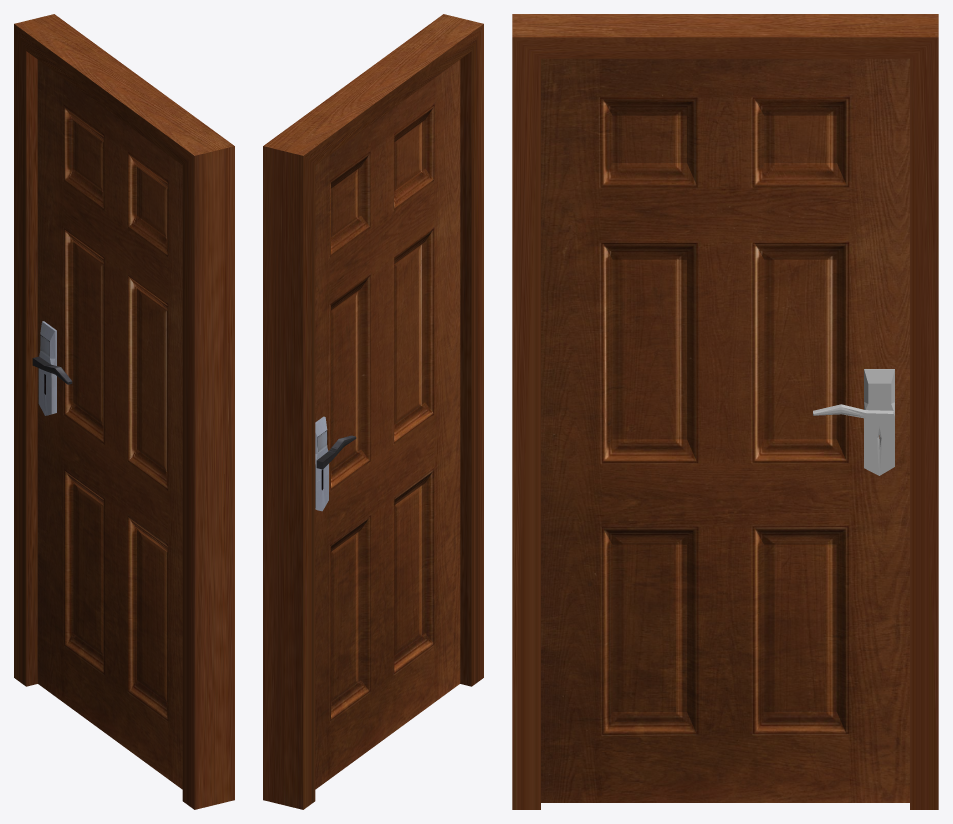
Rendered from door a.dae.
3 renders of one model, left to right at view 1: azimuth 30°, elevation 25°; view 2: azimuth 150°, elevation 25°; view 3: azimuth 270°, elevation 25°, orthographic. The views are drawn at different scales.
Parts seen in each view (by area): view 1: Cube.001, Cube, Cube.002; view 2: Cube.001, Cube, Cube.002; view 3: Cube.001, Cube, Cube.003.
Boxes of the visible parts, <box> form: Cube.001: <box>37,59,182,789</box>; Cube: <box>14,14,234,809</box>; Cube.002: <box>32,321,72,415</box>; Cube.001: <box>315,59,460,789</box>; Cube: <box>263,14,483,809</box>; Cube.002: <box>315,416,356,511</box>; Cube.001: <box>541,58,909,802</box>; Cube: <box>512,14,938,809</box>; Cube.003: <box>813,369,894,475</box>.
Size of the model in its own units: 0.3304 by 2.54 by 5.07.
